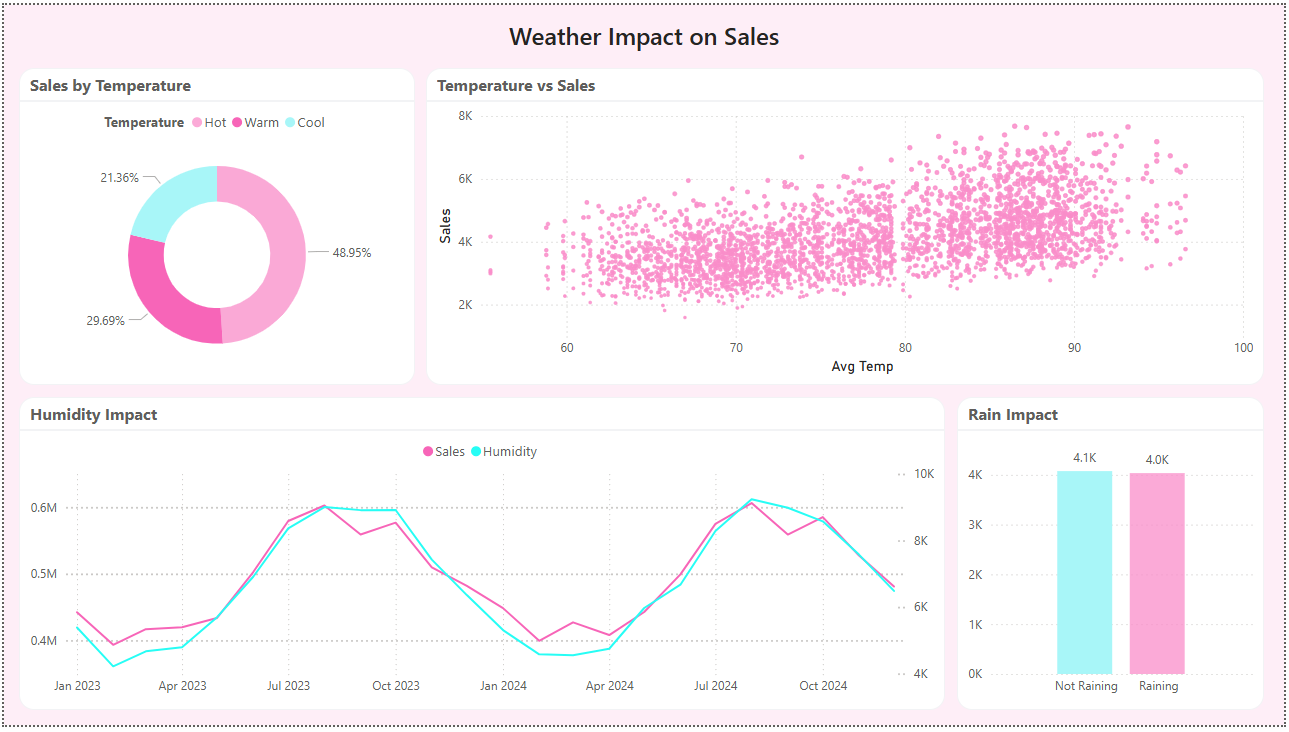

The dashboard page shown, as its layout file describes it:
{"tool":"powerbi","page":{"name":"Page 2","canvas":[1280,720],"ordinal":1},"visuals":[{"type":"lineChart","title":"Humidity Impact","fields":{"Category":["table_joined.date.Variation.Date Hierarchy.Year","table_joined.date.Variation.Date Hierarchy.Month","table_joined.date.Variation.Date Hierarchy.Day"],"Y2":["Sum(table_joined.humidity_pct)"],"Y":["Sum(table_joined.sales_usd)"]},"box":[15,392,926,313],"z":0},{"type":"clusteredColumnChart","title":"Rain Impact","fields":{"Category":["table_joined.is_rain"],"Y":["Avg(table_joined.sales_usd)"]},"box":[953,392,307,313],"z":1000},{"type":"scatterChart","title":"Temperature vs Sales","fields":{"X":["table_joined.avg_temp_f"],"Size":["Avg(table_joined.customers)"],"Y":["table_joined.sales_usd"]},"box":[422,63,838,317],"z":2000},{"type":"donutChart","title":"Sales by Temperature","fields":{"Category":["table_joined.temp_category"],"Y":["Sum(table_joined.sales_usd)"]},"box":[15,63,396,317],"z":3000},{"type":"textbox","box":[428,9,424,45],"z":4000}]}

Visuals, with their boxes in screenshot pixels (x1, y1, x2, y2), scaled from the page's 1280x720 canvas onto the 1289x732 screenshot:
"Humidity Impact" lineChart: rect(15, 399, 948, 717)
"Rain Impact" clusteredColumnChart: rect(960, 399, 1269, 717)
"Temperature vs Sales" scatterChart: rect(425, 64, 1269, 386)
"Sales by Temperature" donutChart: rect(15, 64, 414, 386)
textbox: rect(431, 9, 858, 55)
